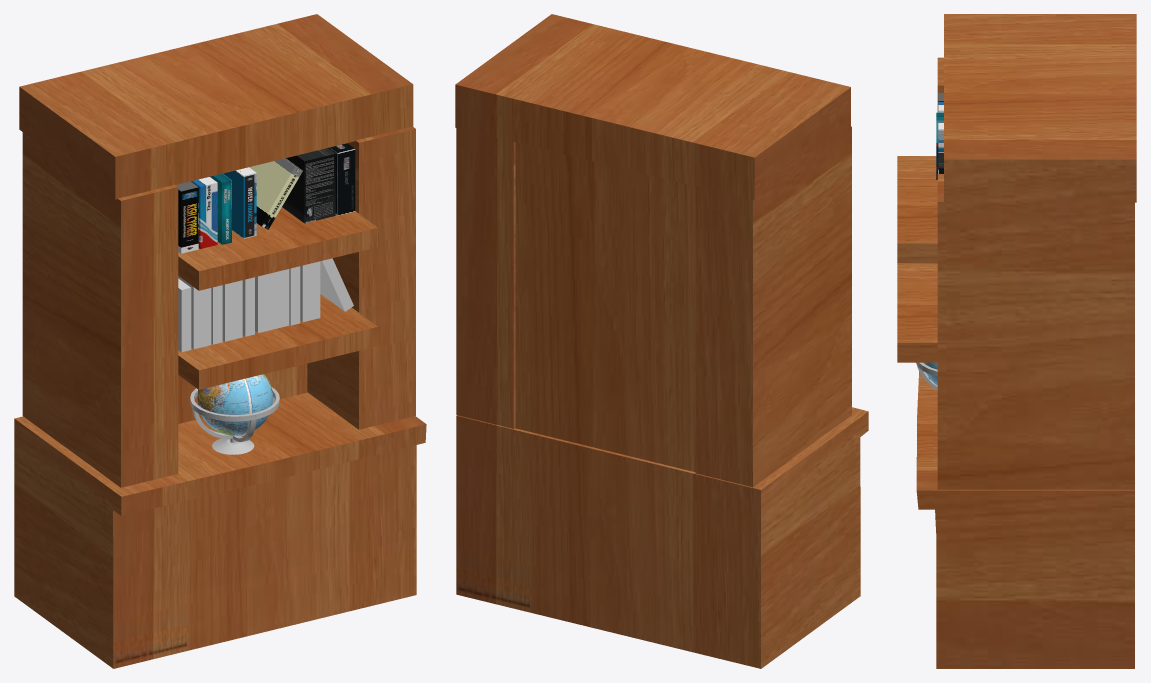
Rendered from MUEBLE.FBX.
3 views of the same model, side by side, from view 1: azimuth 30°, elevation 25°; view 2: azimuth 150°, elevation 25°; view 3: azimuth 270°, elevation 25° (orthographic).
Parts seen in each view (by area): view 1: Box004, Sphere001, Box019, Box020, Box018, Box017, Box009, Box008, Box010, Box011, Box012, Box022 (+6 smaller); view 2: Box004; view 3: Box004, Sphere001.
Boxes of the visible parts, left/top/right/bottom form: Box004: left=14, top=14, right=426, bottom=668; Sphere001: left=190, top=374, right=279, bottom=454; Box019: left=282, top=148, right=335, bottom=223; Box020: left=249, top=158, right=302, bottom=229; Box018: left=255, top=269, right=289, bottom=332; Box017: left=223, top=167, right=256, bottom=238; Box009: left=328, top=143, right=355, bottom=215; Box008: left=176, top=181, right=198, bottom=253; Box010: left=191, top=177, right=217, bottom=248; Box011: left=178, top=276, right=211, bottom=349; Box012: left=222, top=280, right=242, bottom=341; Box022: left=300, top=261, right=320, bottom=321; Box004: left=455, top=14, right=868, bottom=668; Box004: left=897, top=14, right=1136, bottom=668; Sphere001: left=916, top=362, right=937, bottom=390.
Size of the model in its own units: 70.4 by 113 by 47.88.
